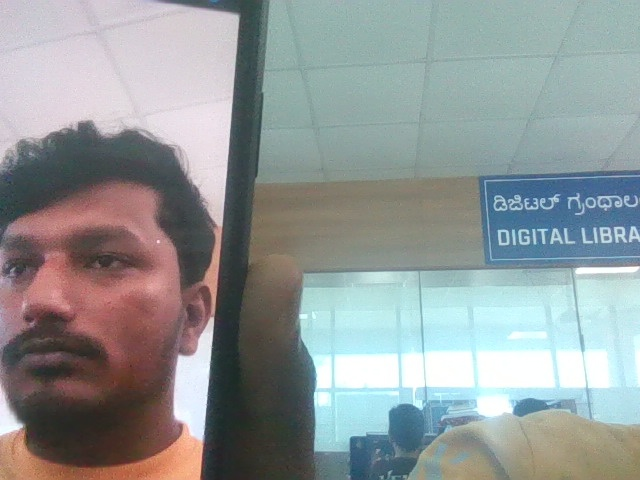fake: (0, 90, 252, 447)
